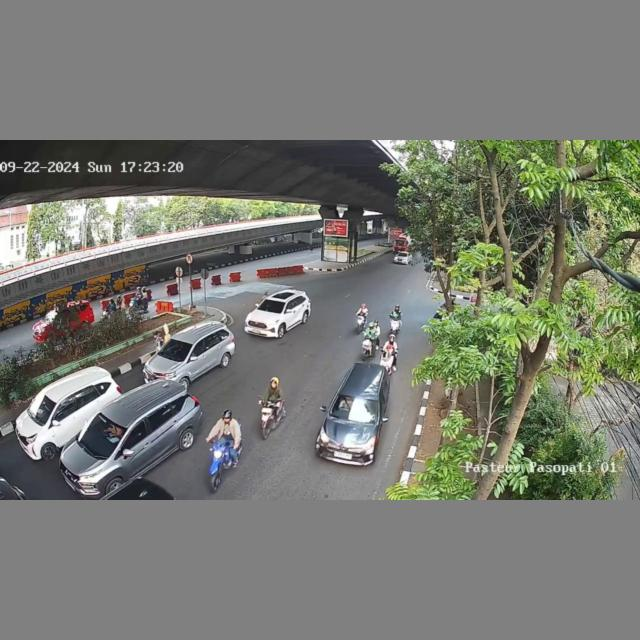windshield: (79, 414, 132, 456), (333, 391, 381, 424), (27, 392, 58, 426), (159, 337, 192, 362), (256, 298, 286, 316)
